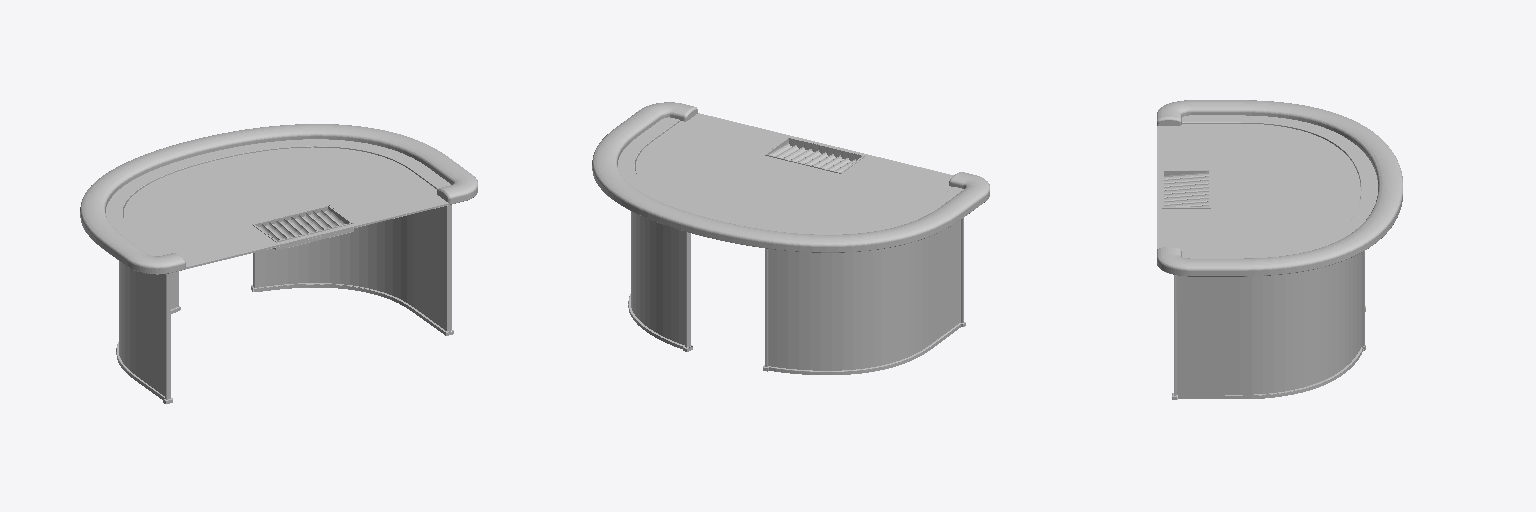
Rendered from table.obj.
3 renders of one model, left to right at view 1: azimuth 30°, elevation 25°; view 2: azimuth 150°, elevation 25°; view 3: azimuth 270°, elevation 25°, orthographic.
Visible parts, largest first — view 1: Shape01.001_메쉬.001, Shape05.004_메쉬.001, Shape02.001_메쉬.001, Shape04.004_메쉬.001, Shape03.001_메쉬.001, Cylinder1039_메쉬.001, Shape05.005_메쉬.001; view 2: Shape04.004_메쉬.001, Shape01.001_메쉬.001, Shape02.001_메쉬.001, Shape05.004_메쉬.001, Shape03.001_메쉬.001, Cylinder1039_메쉬.001, Shape04.005_메쉬.001; view 3: Shape05.004_메쉬.001, Shape01.001_메쉬.001, Shape02.001_메쉬.001, Shape03.001_메쉬.001, Cylinder1039_메쉬.001, Shape05.005_메쉬.001.
Part boxes in pixels (left/top/right/bottom): Shape01.001_메쉬.001: left=123, top=147, right=449, bottom=269; Shape05.004_메쉬.001: left=253, top=205, right=451, bottom=330; Shape02.001_메쉬.001: left=80, top=124, right=477, bottom=274; Shape04.004_메쉬.001: left=119, top=210, right=178, bottom=399; Shape03.001_메쉬.001: left=106, top=139, right=450, bottom=255; Cylinder1039_메쉬.001: left=252, top=205, right=353, bottom=250; Shape05.005_메쉬.001: left=251, top=283, right=453, bottom=335; Shape04.004_메쉬.001: left=765, top=218, right=963, bottom=370; Shape01.001_메쉬.001: left=635, top=113, right=953, bottom=231; Shape02.001_메쉬.001: left=592, top=102, right=989, bottom=252; Shape05.004_메쉬.001: left=631, top=165, right=690, bottom=347; Shape03.001_메쉬.001: left=618, top=117, right=963, bottom=234; Cylinder1039_메쉬.001: left=764, top=137, right=864, bottom=173; Shape04.005_메쉬.001: left=763, top=322, right=965, bottom=374; Shape05.004_메쉬.001: left=1174, top=251, right=1364, bottom=395; Shape01.001_메쉬.001: left=1157, top=124, right=1360, bottom=255; Shape02.001_메쉬.001: left=1157, top=100, right=1402, bottom=276; Shape03.001_메쉬.001: left=1182, top=115, right=1377, bottom=258; Cylinder1039_메쉬.001: left=1162, top=170, right=1210, bottom=208; Shape05.005_메쉬.001: left=1172, top=345, right=1365, bottom=399.
Size of the model in its own units: 0.9259 by 0.3775 by 0.5716.